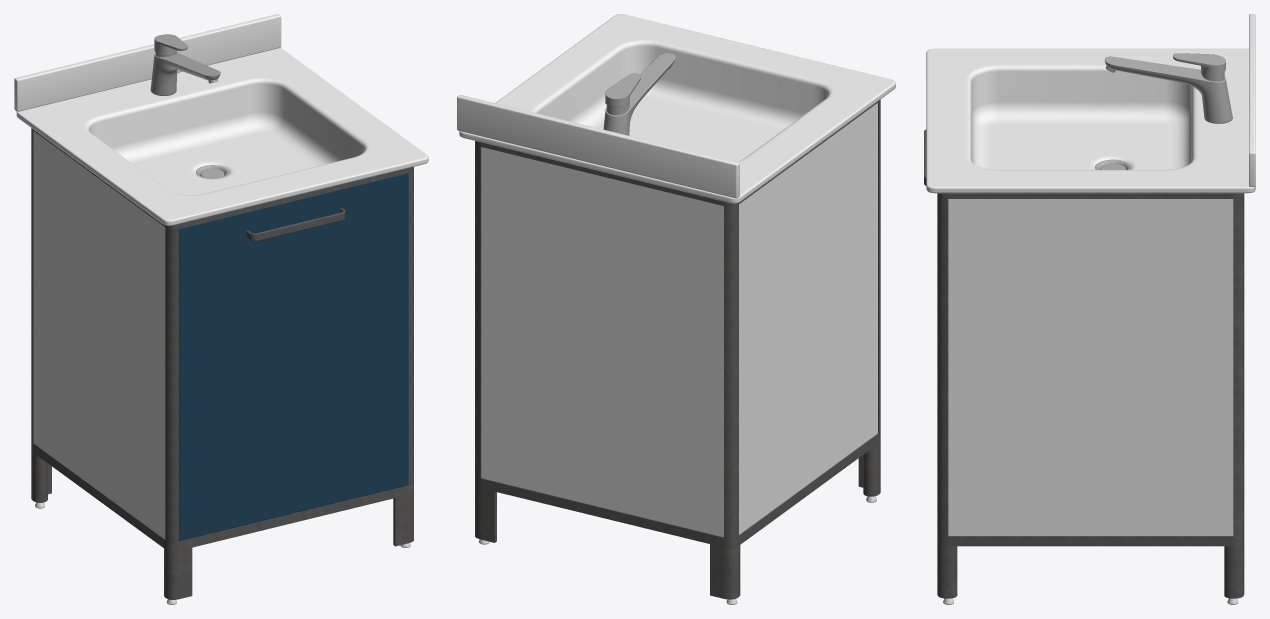
The model's file is hospital-sink.glb.
The picture shows the model from 3 angles, left to right: view 1: azimuth 30°, elevation 25°; view 2: azimuth 150°, elevation 25°; view 3: azimuth 270°, elevation 25°; orthographic projection. The views are drawn at different scales.
Parts seen in each view (by area): view 1: DM01_Sink, SM_EskoVeneziaVE; view 2: DM01_Sink, SM_EskoVeneziaVE; view 3: DM01_Sink, SM_EskoVeneziaVE.
Boxes of the visible parts, x1,y1,x2,y2 form: DM01_Sink: (14, 14, 428, 604); SM_EskoVeneziaVE: (150, 34, 220, 95); DM01_Sink: (457, 14, 895, 604); SM_EskoVeneziaVE: (603, 53, 675, 135); DM01_Sink: (924, 14, 1255, 604); SM_EskoVeneziaVE: (1104, 53, 1232, 123).
Bounding box in the file's own units: 0.78 × 1.27 × 0.7856.
Materials: 5 (5 with a texture image).
